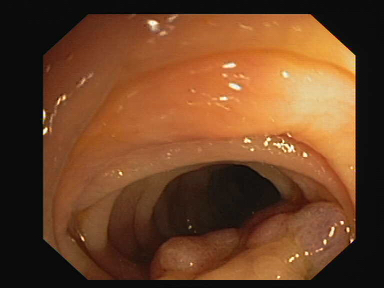polyp: (247, 202, 345, 247), (153, 226, 244, 274)
